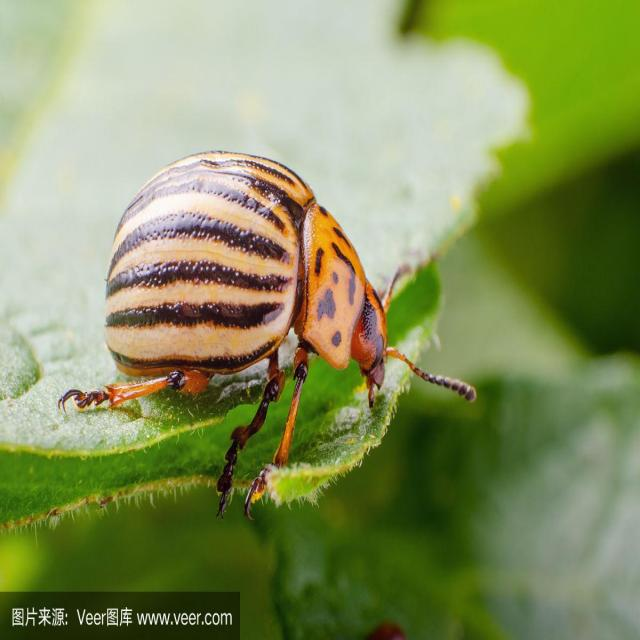ShuCaiHuaBanChong-Grown-: (90, 150, 402, 466)
